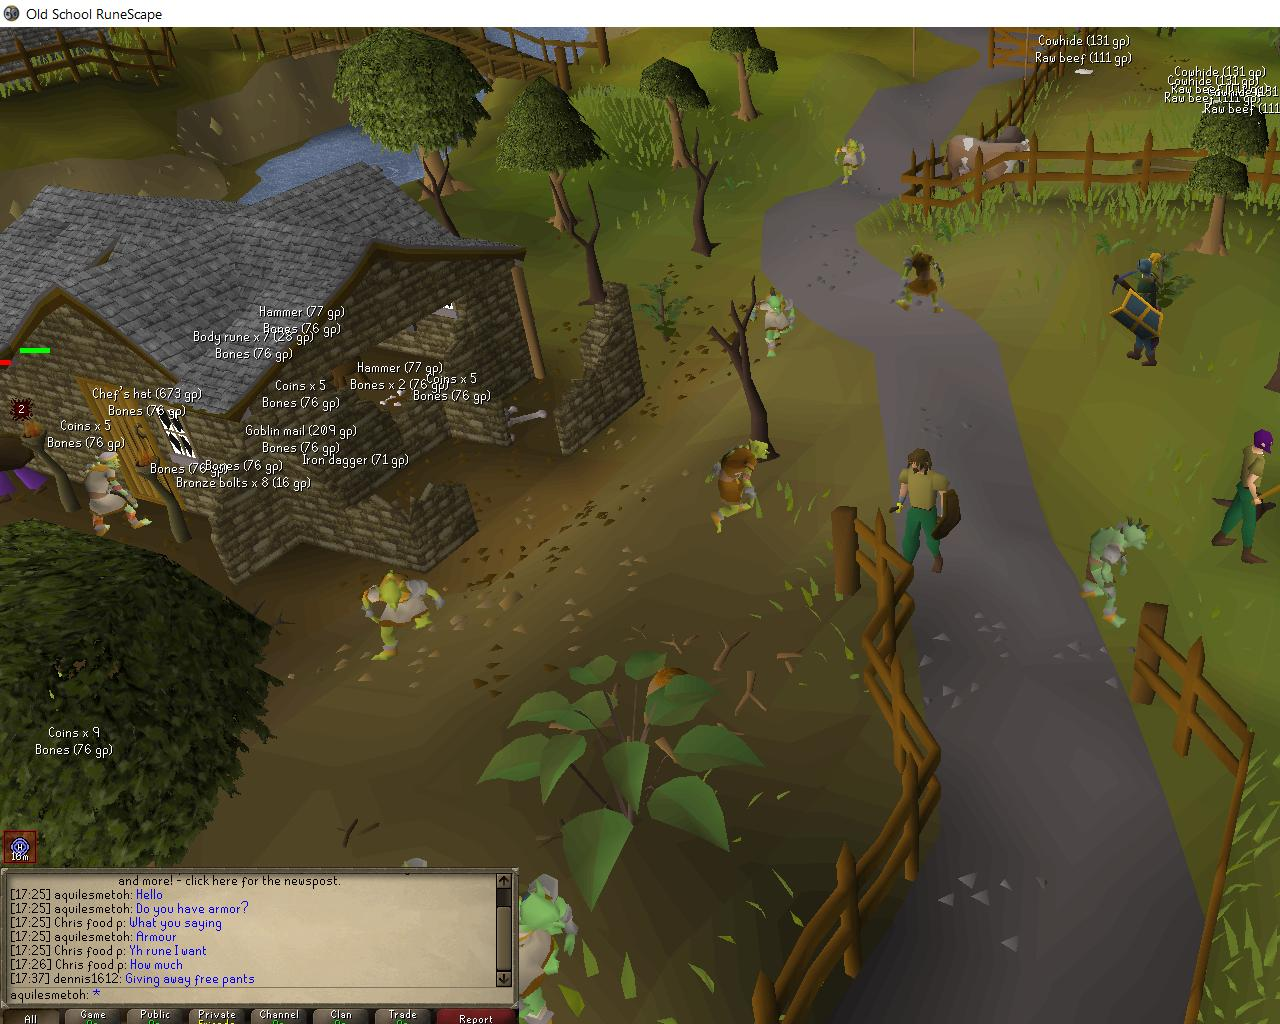Goblin: (1078, 513, 1153, 631), (360, 567, 446, 659), (75, 446, 153, 538), (706, 437, 769, 537), (747, 289, 799, 360), (832, 138, 869, 187)
